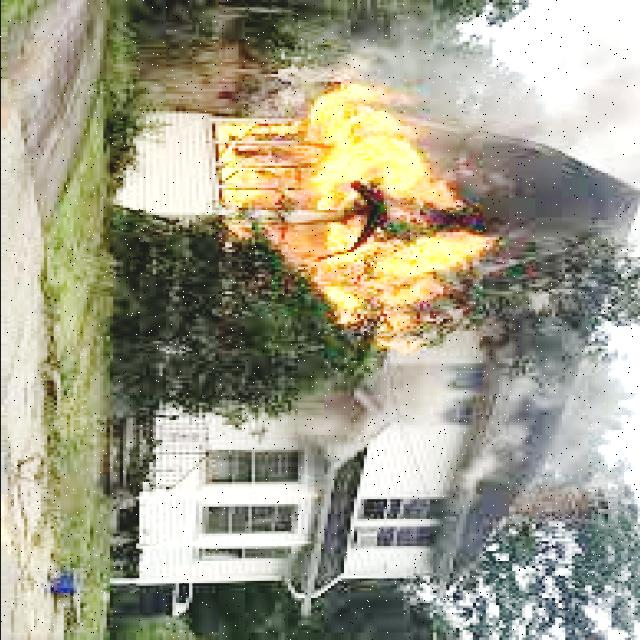api: (199, 73, 463, 345)
